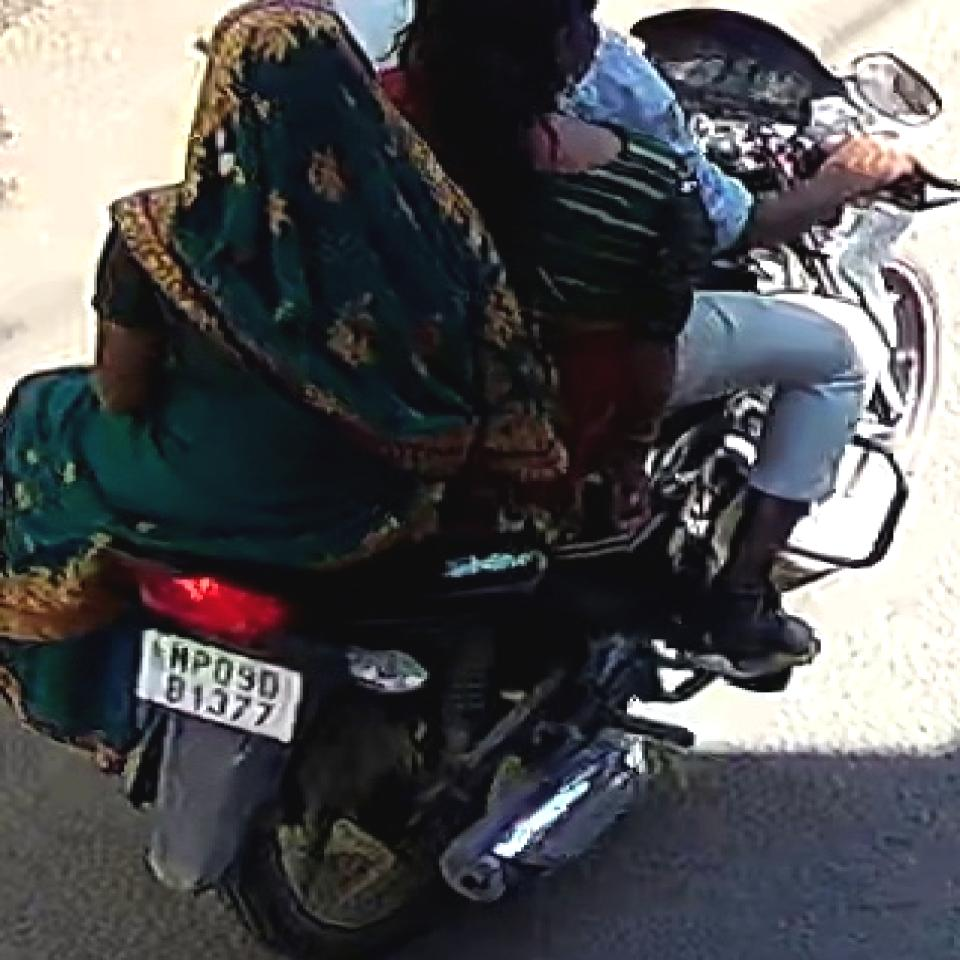tail_light: (138, 572, 282, 635)
